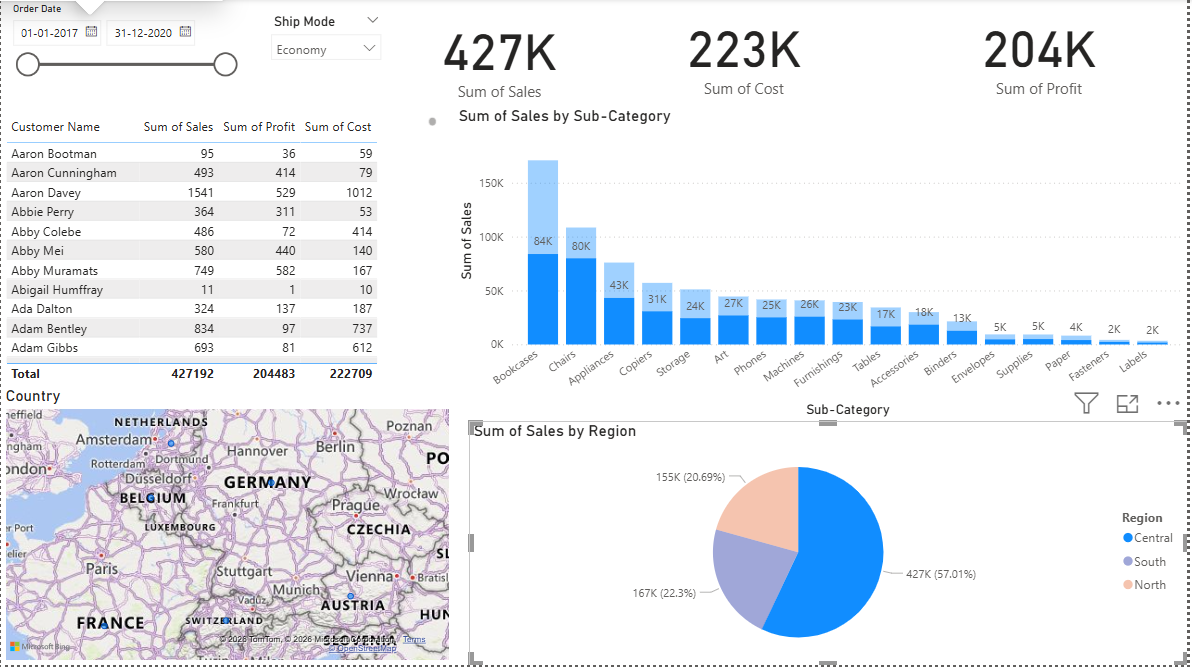

What the dashboard file says about the page in this screenshot:
{"tool":"powerbi","page":{"name":"Page 1","canvas":[1280,720],"ordinal":0},"visuals":[{"type":"card","fields":{"Values":["Sum(List of Orders.Sales)"]},"box":[420,0,236.7,123.3],"z":0},{"type":"card","fields":{"Values":["Sum(List of Orders.Cost)"]},"box":[656.7,0,288.3,116.7],"z":1000},{"type":"card","fields":{"Values":["Sum(List of Orders.Profit)"]},"box":[960,0,320,116.7],"z":2000},{"type":"clusteredColumnChart","fields":{"Y":["Sum(List of Orders.Sales)"],"Category":["List of Orders.Sub-Category"]},"box":[488.3,116.7,791.7,340],"z":3000},{"type":"pieChart","fields":{"Y":["Sum(List of Orders.Sales)"],"Category":["List of Orders.Region"]},"box":[505,456.7,775,263.3],"z":4000},{"type":"map","fields":{"Category":["List of Orders.Country"]},"box":[0,420,488.3,300],"z":5000},{"type":"slicer","fields":{"Values":["List of Orders.Order Date"]},"box":[0,0,262.9,123.5],"z":5001},{"type":"slicer","fields":{"Values":["List of Orders.Ship Mode"]},"box":[281.3,11.5,138.5,105.3],"z":5002},{"type":"tableEx","fields":{"Values":["List of Orders.Customer Name","Sum(List of Orders.Sales)","Sum(List of Orders.Profit)","Sum(List of Orders.Cost)"]},"box":[0,123.3,475,296.7],"z":5003}]}

Visuals, with their boxes in screenshot pixels (x1, y1, x2, y2), scaled from the page's 1280x720 canvas onto the 1192x667 screenshot:
card - Sum(List of Orders.Sales): select_region(391, 0, 612, 114)
card - Sum(List of Orders.Cost): select_region(612, 0, 880, 108)
card - Sum(List of Orders.Profit): select_region(894, 0, 1191, 108)
clusteredColumnChart - Sum(List of Orders.Sales) x List of Orders.Sub-Category: select_region(455, 108, 1191, 423)
pieChart - Sum(List of Orders.Sales) x List of Orders.Region: select_region(470, 423, 1191, 666)
map - List of Orders.Country: select_region(0, 389, 455, 666)
slicer - List of Orders.Order Date: select_region(0, 0, 245, 114)
slicer - List of Orders.Ship Mode: select_region(262, 11, 391, 108)
tableEx - List of Orders.Customer Name x Sum(List of Orders.Sales): select_region(0, 114, 442, 389)
